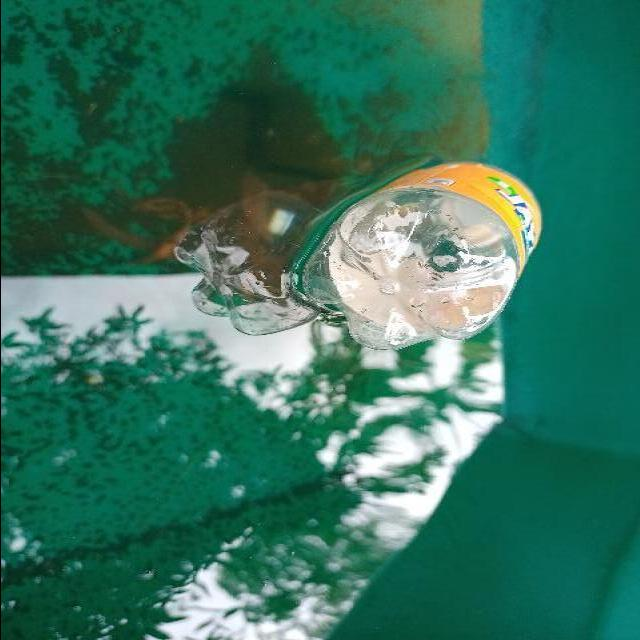Bottle: (290, 151, 554, 360)
